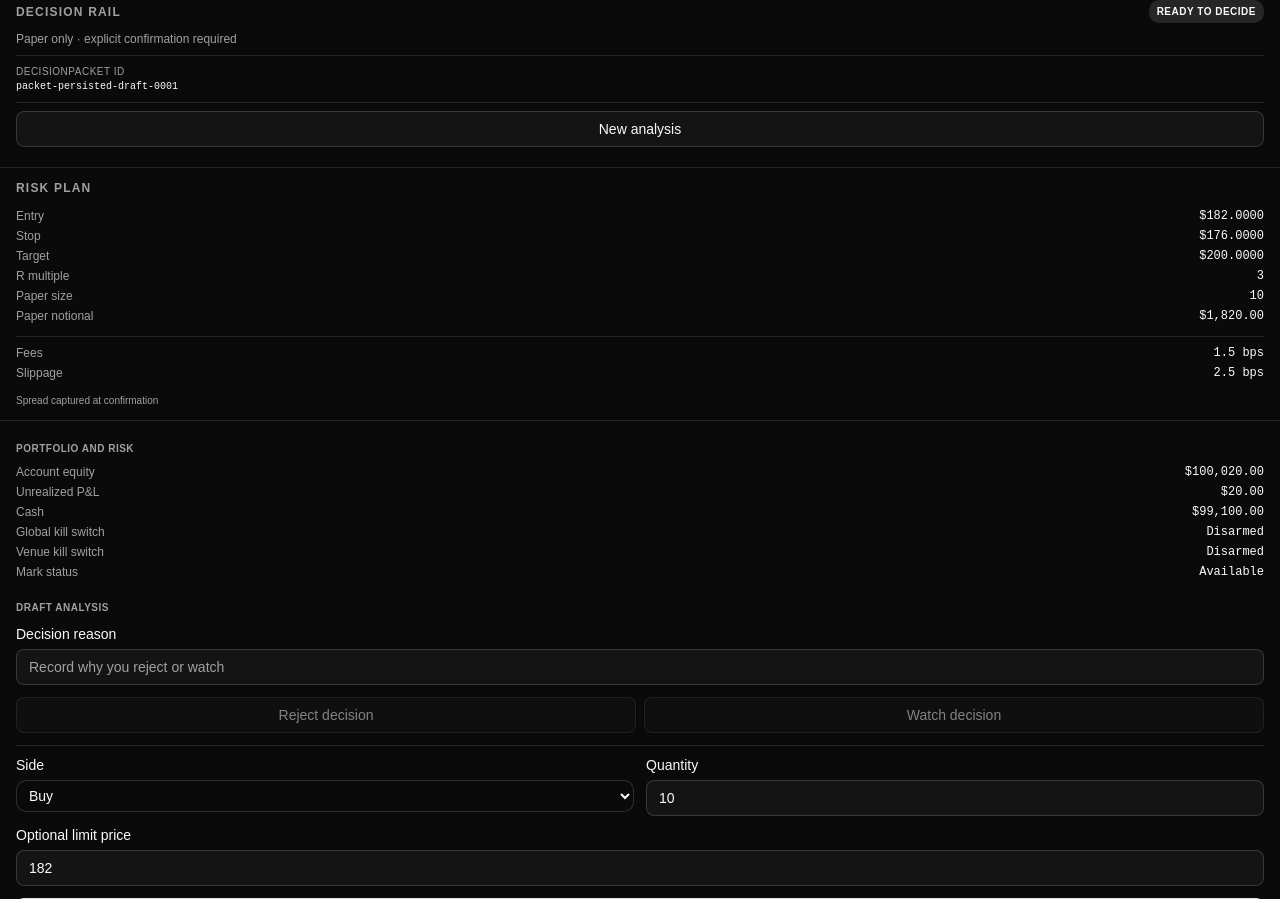
Test: DecisionRail › acts directly on an exact persisted Draft and offers an explicit fresh-analysis switch
Expected: the button "New analysis" is shown, [16,111,1264,147]
Type "Wait for entry" into the field labelled "Decision reason".
click(640, 667); type("Wait for entry")  # box [16,649,1264,685]
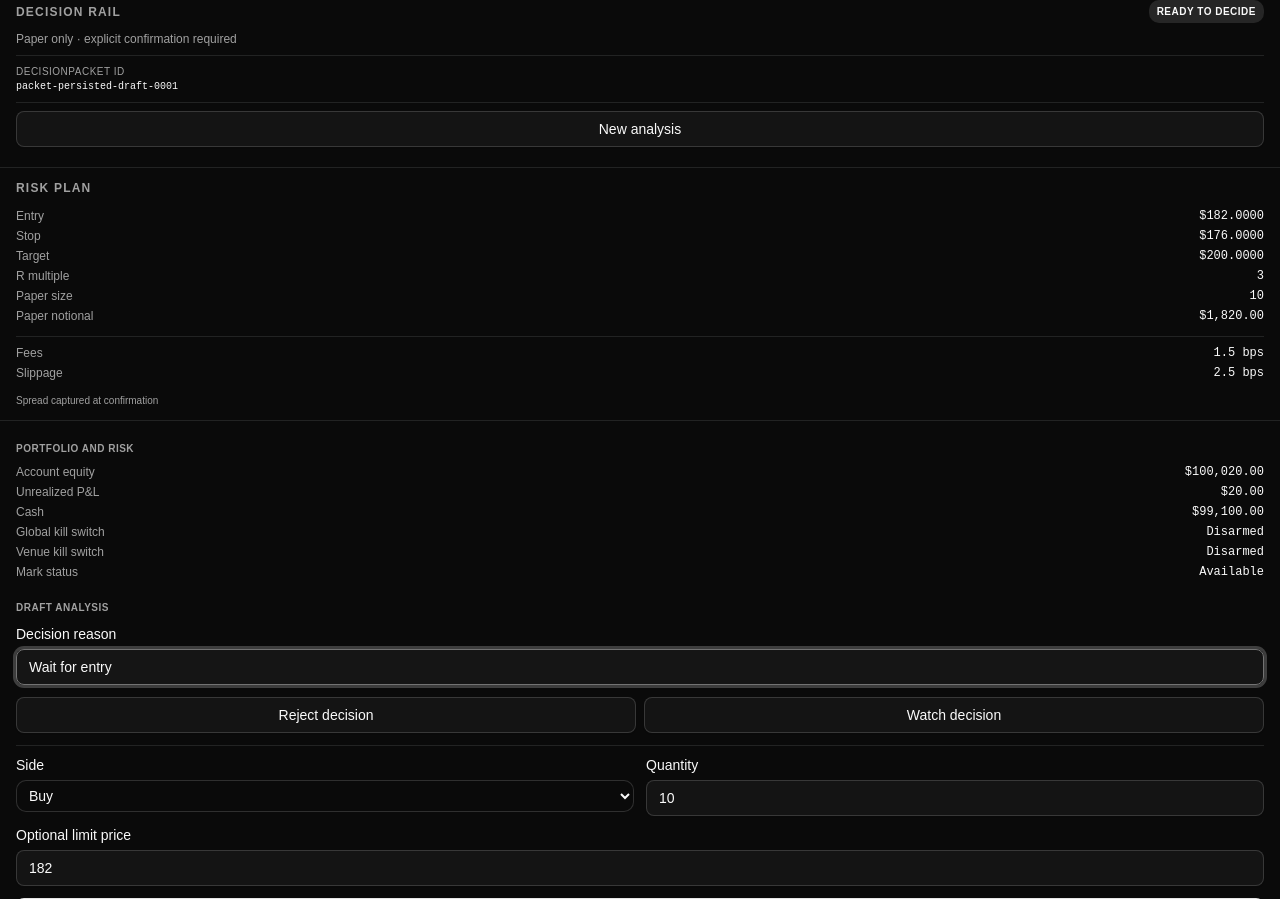
Click the button "Watch decision".
click(954, 715)  # box [644,697,1264,733]
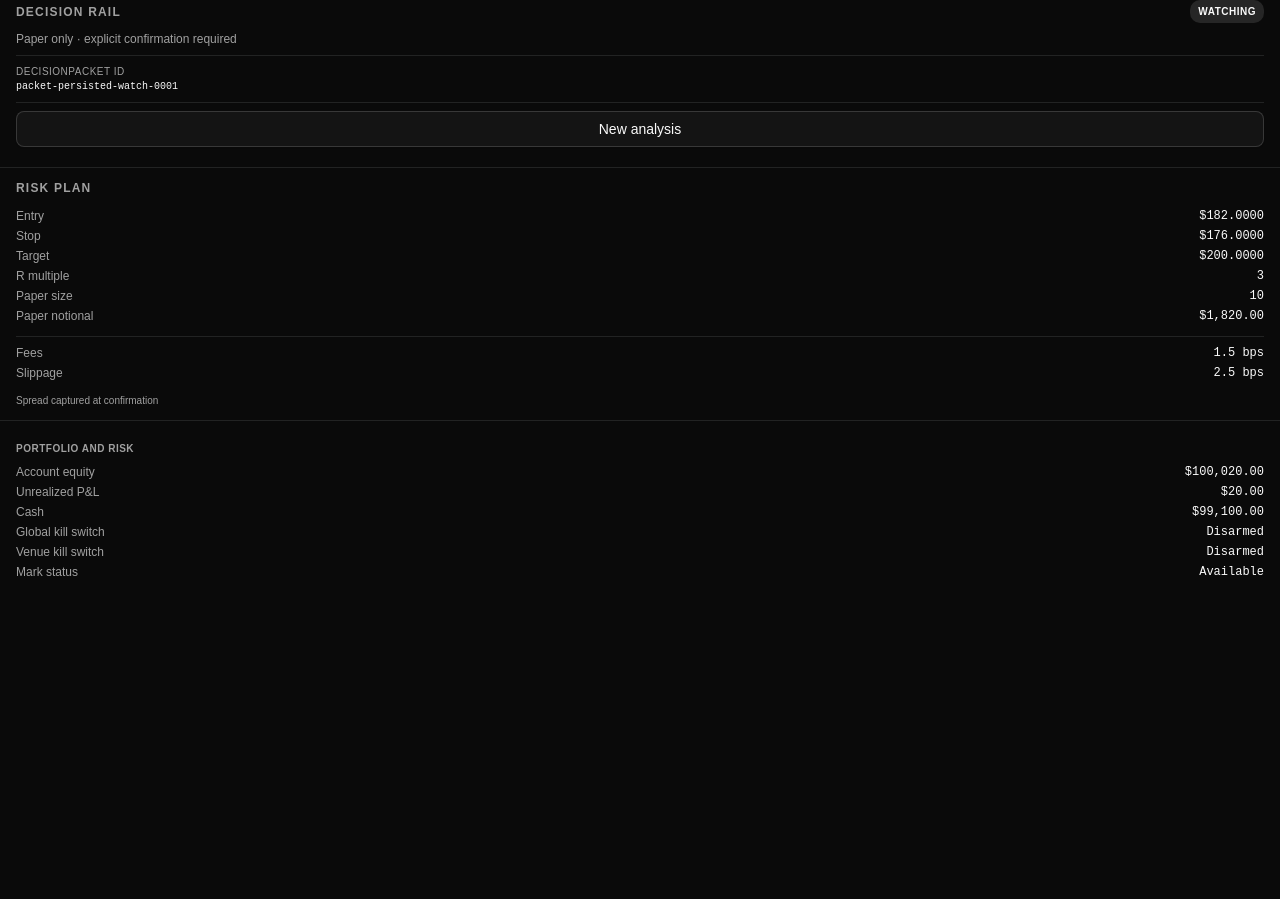
Result: the text "packet-persisted-watch-0001" is shown at [16,81,178,92]
